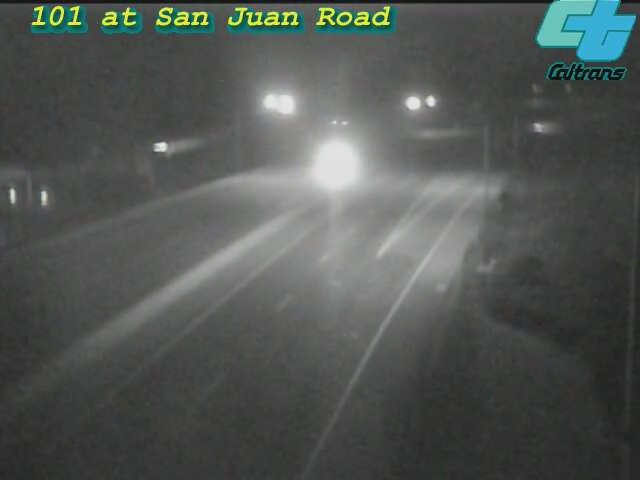vehicle: (296, 123, 376, 203), (518, 102, 568, 152)
